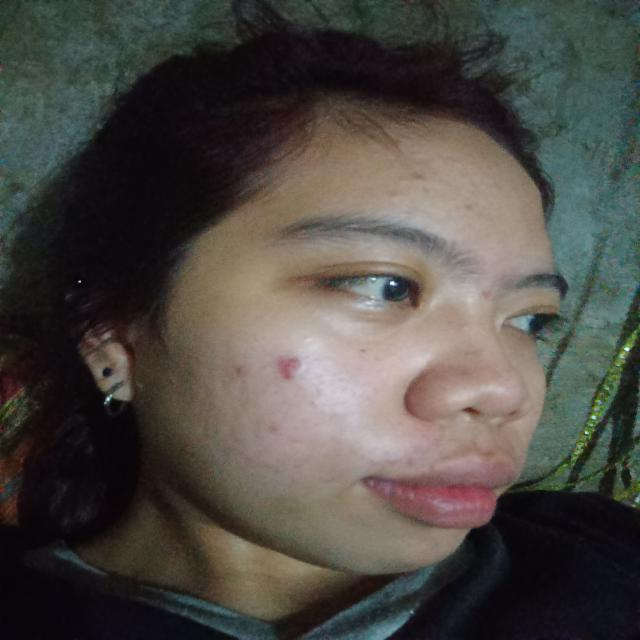Acne: (276, 354, 304, 382), (363, 456, 418, 470), (232, 365, 250, 377), (462, 202, 475, 214), (266, 423, 281, 432), (480, 288, 491, 300), (412, 172, 428, 180), (421, 188, 430, 196)
Blackheads: (187, 359, 252, 434), (304, 354, 368, 428), (255, 454, 308, 476), (300, 334, 316, 344)
Eyebags: (313, 291, 420, 327)
